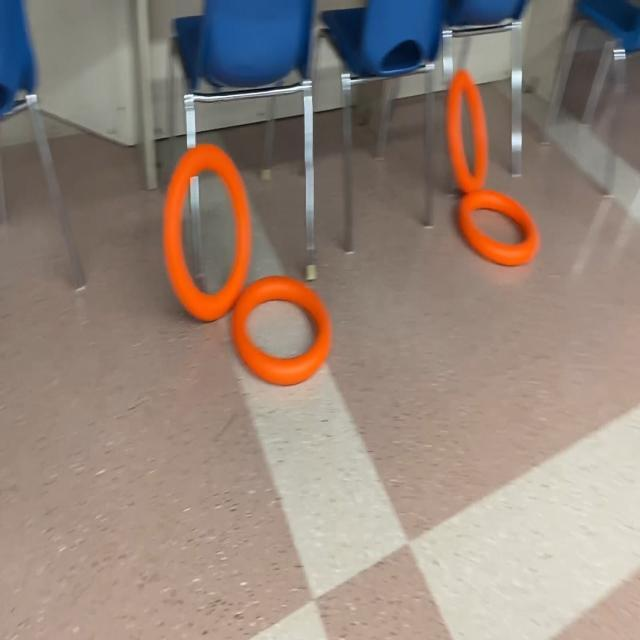note: (162, 143, 252, 327), (229, 276, 335, 391), (458, 187, 542, 272), (444, 66, 487, 196)
